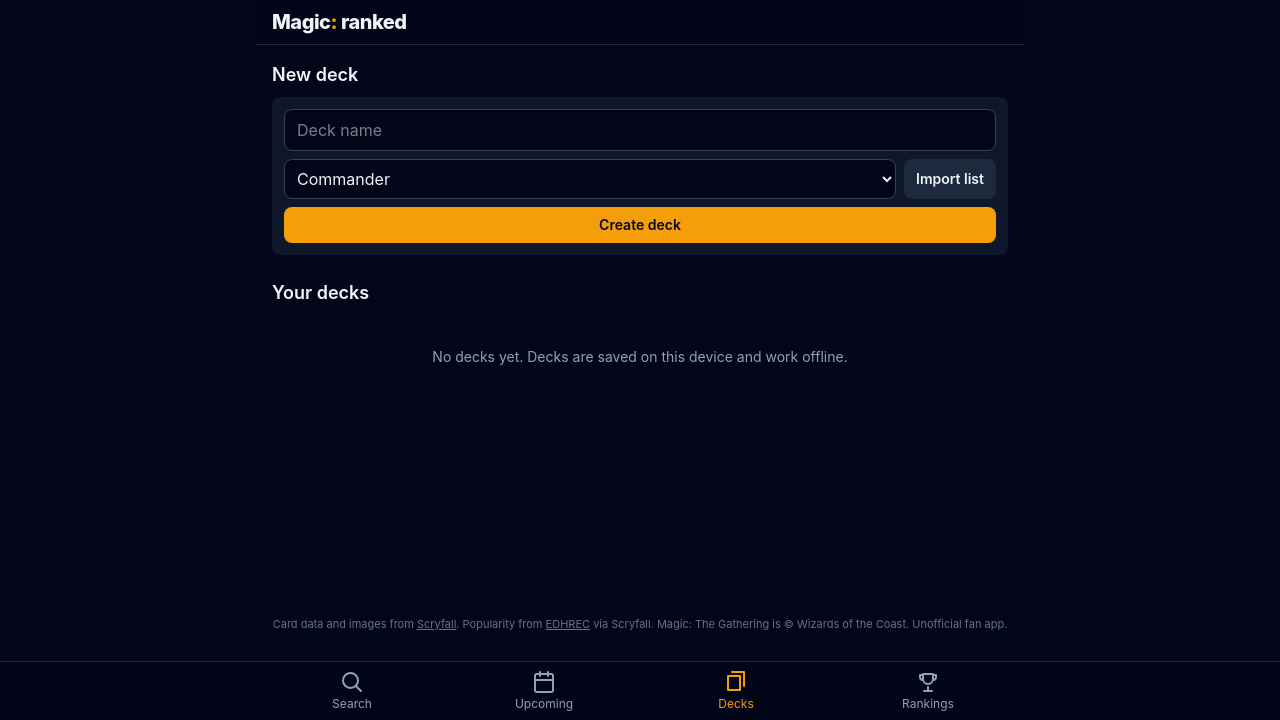
Test: decks › creates a deck, saves it and makes it active
Type "Burn" into the field labelled "Deck name" at (640, 130), box [284, 109, 996, 151]
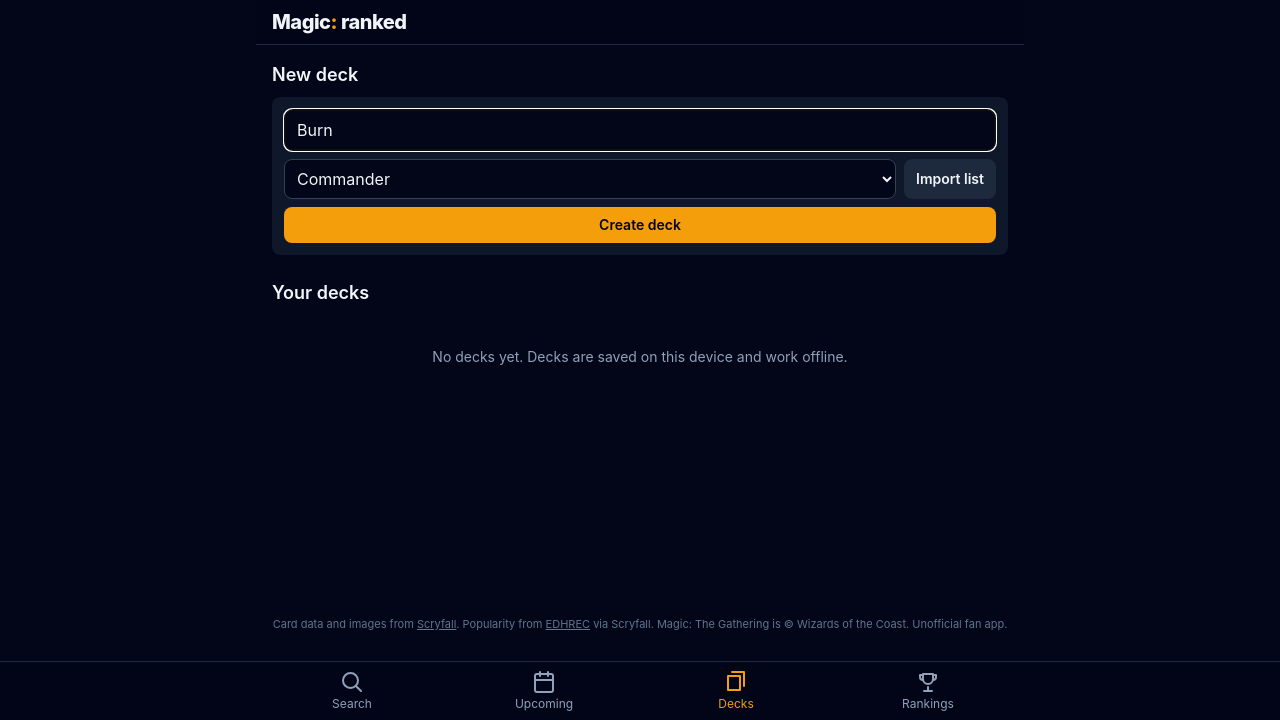
Select "Modern" in the dropdown named "Deck format" at (590, 179), box [284, 159, 896, 199]
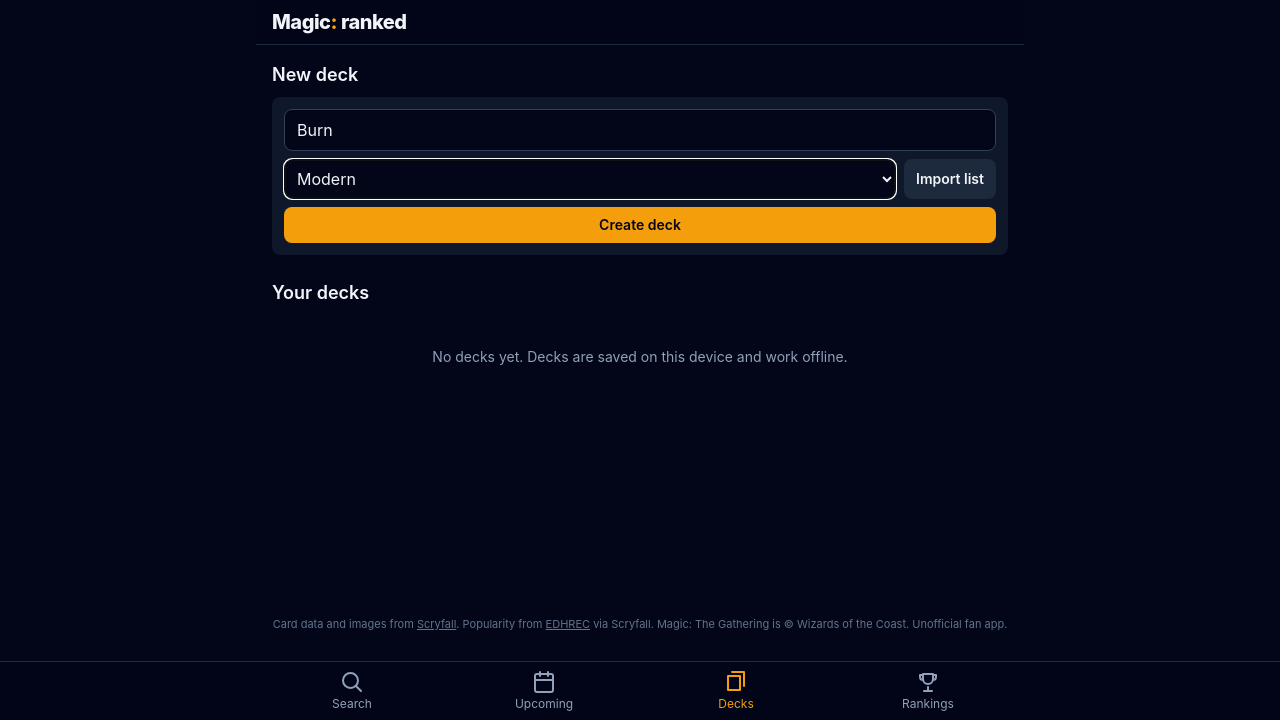
Click the button "Create deck" at (640, 225), box [284, 207, 996, 243]
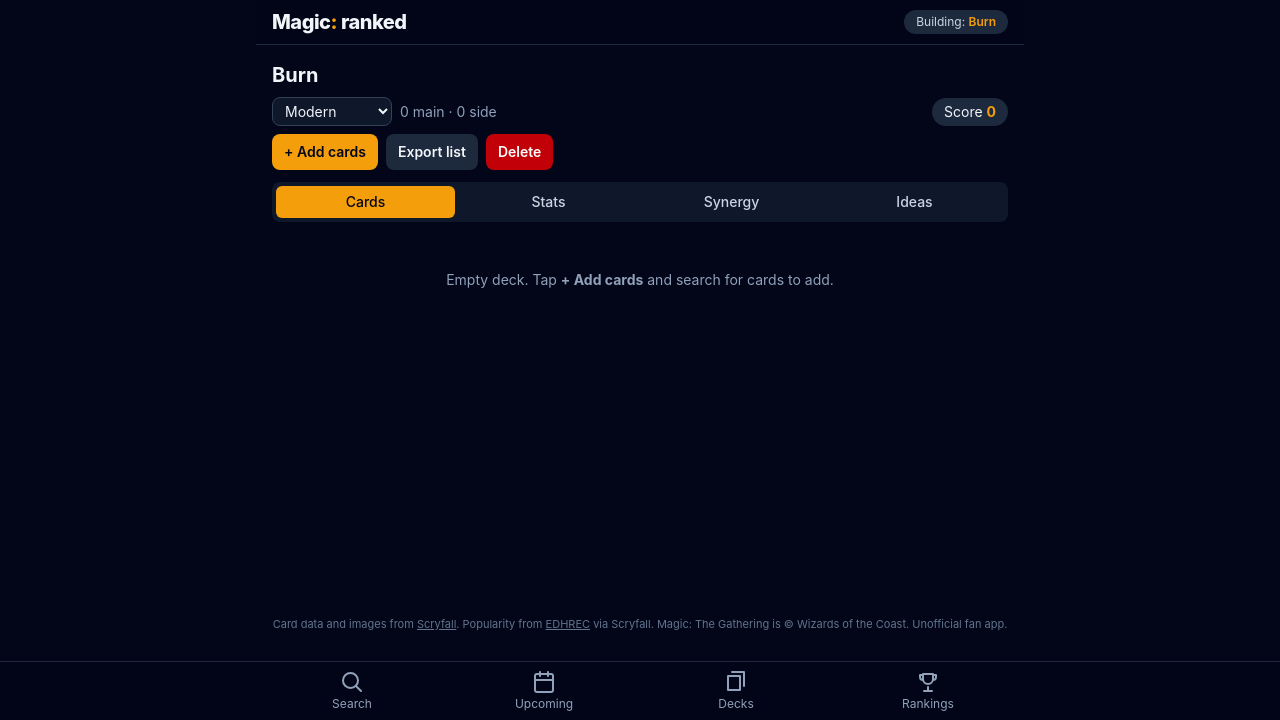
Result: the field showing "Burn" is shown at [272, 61, 1008, 89]
Result: the link "Building: Burn" is shown at [904, 10, 1008, 34]
